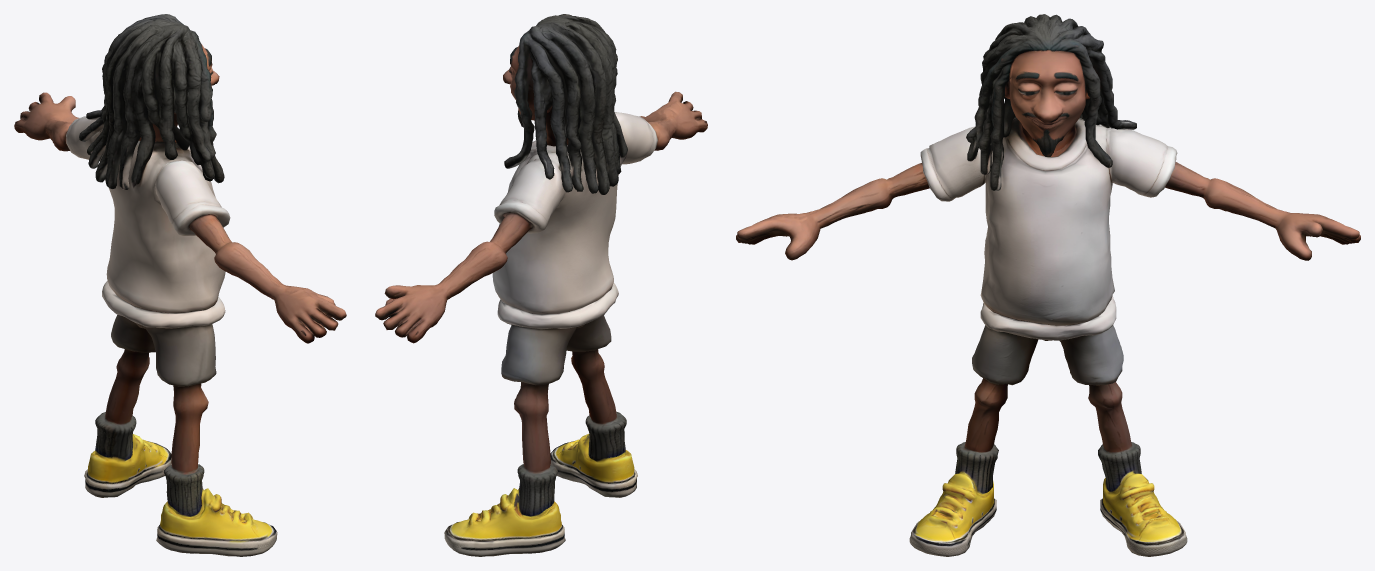
The picture shows the model from 3 angles, left to right: view 1: azimuth 30°, elevation 25°; view 2: azimuth 150°, elevation 25°; view 3: azimuth 270°, elevation 25°; orthographic projection. The views are drawn at different scales.
Visible parts, largest first — view 1: tripo_node_98392bb8; view 2: tripo_node_98392bb8; view 3: tripo_node_98392bb8.
Boxes of the visible parts, bbox=[...] form: tripo_node_98392bb8: bbox=[14, 14, 346, 556]; tripo_node_98392bb8: bbox=[375, 14, 707, 556]; tripo_node_98392bb8: bbox=[736, 14, 1360, 556].
Bounding box in the file's own units: 22.11 × 90.22 × 100.
Materials: 1 (1 with a texture image).
